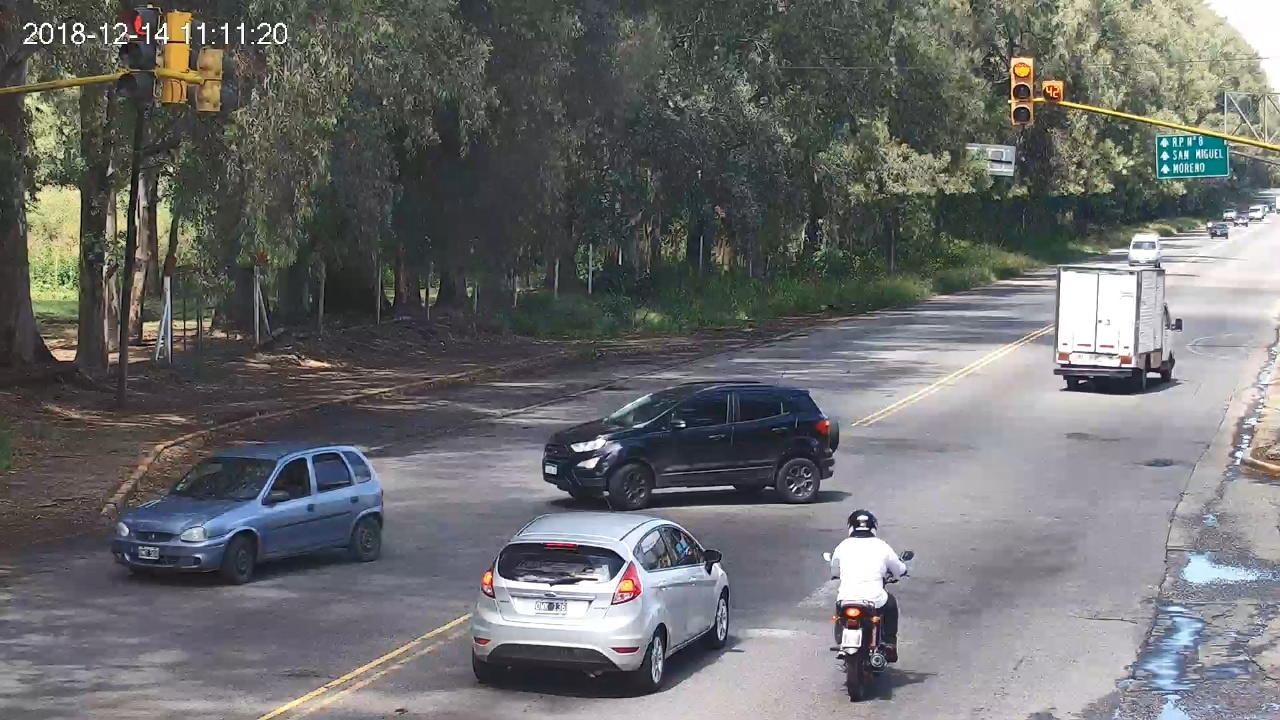car: (472, 511, 730, 686)
front car: (542, 382, 840, 510), (112, 445, 386, 584)
motorcycle: (822, 548, 915, 700)
traffic light: (1011, 57, 1032, 125)
truck: (1053, 264, 1182, 389)
